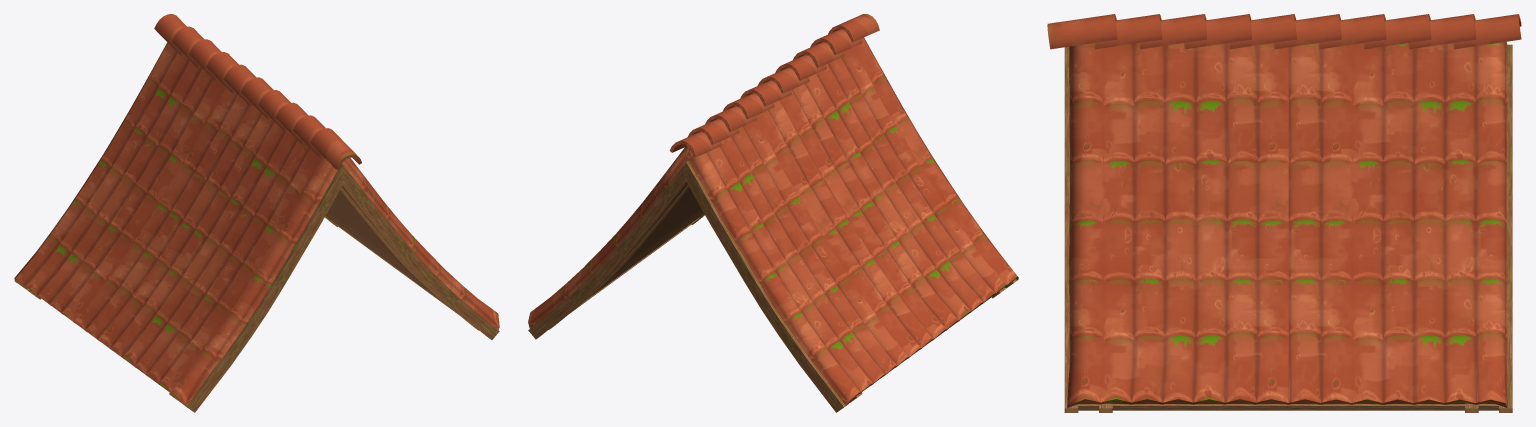
The model's file is Roof_RoundTiles_6x6.glb.
The picture shows the model from 3 angles, left to right: view 1: azimuth 30°, elevation 25°; view 2: azimuth 150°, elevation 25°; view 3: azimuth 270°, elevation 25°; orthographic projection. The views are drawn at different scales.
Parts seen in each view (by area): view 1: Roof_RoundTiles_6x6; view 2: Roof_RoundTiles_6x6; view 3: Roof_RoundTiles_6x6.
Part boxes in pixels (<box>): Roof_RoundTiles_6x6: <box>14,14,499,412</box>; Roof_RoundTiles_6x6: <box>528,14,1018,412</box>; Roof_RoundTiles_6x6: <box>1047,14,1521,412</box>.
Bounding box in the file's own units: 8.25 × 5.67 × 8.03.
2 materials, 2 textured.
